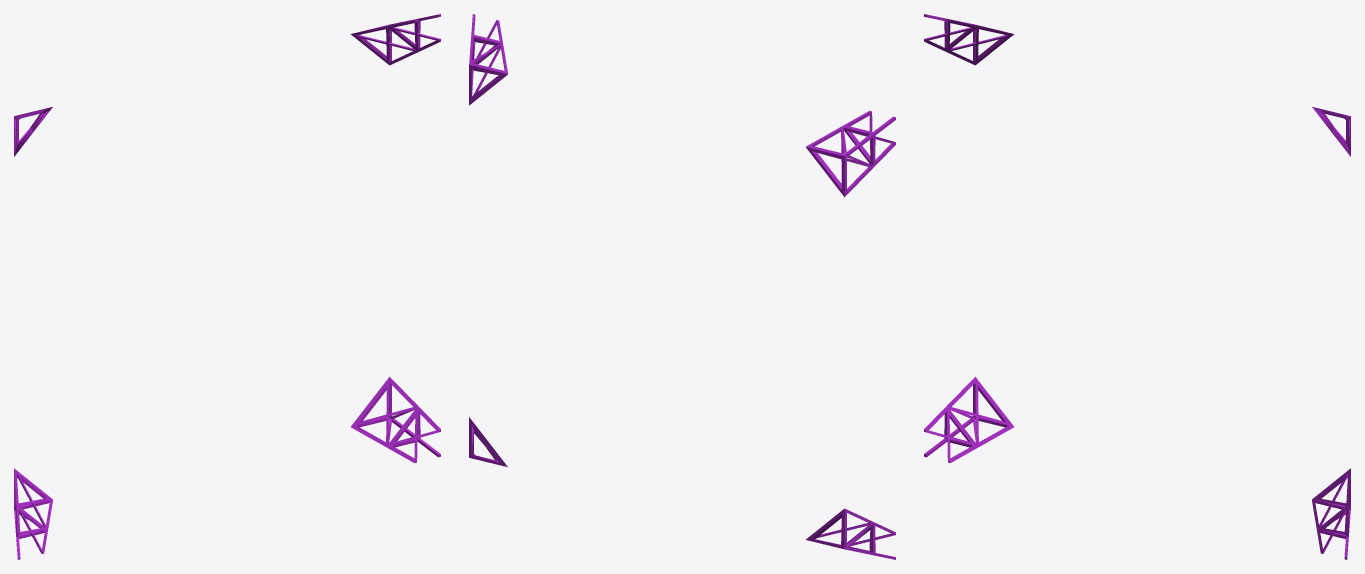
Rendered from tower_02.glb.
The picture shows the model from 3 angles, left to right: view 1: azimuth 30°, elevation 25°; view 2: azimuth 150°, elevation 25°; view 3: azimuth 330°, elevation 25°; orthographic projection.
Visible parts, largest first — view 1: H1c; view 2: H1c; view 3: H1c.
Boxes of the visible parts, x1,y1,x2,y2 form: H1c: (14, 14, 440, 559); H1c: (469, 14, 895, 559); H1c: (924, 14, 1350, 559).
Size of the model in its own units: 8 by 8 by 0.9.
